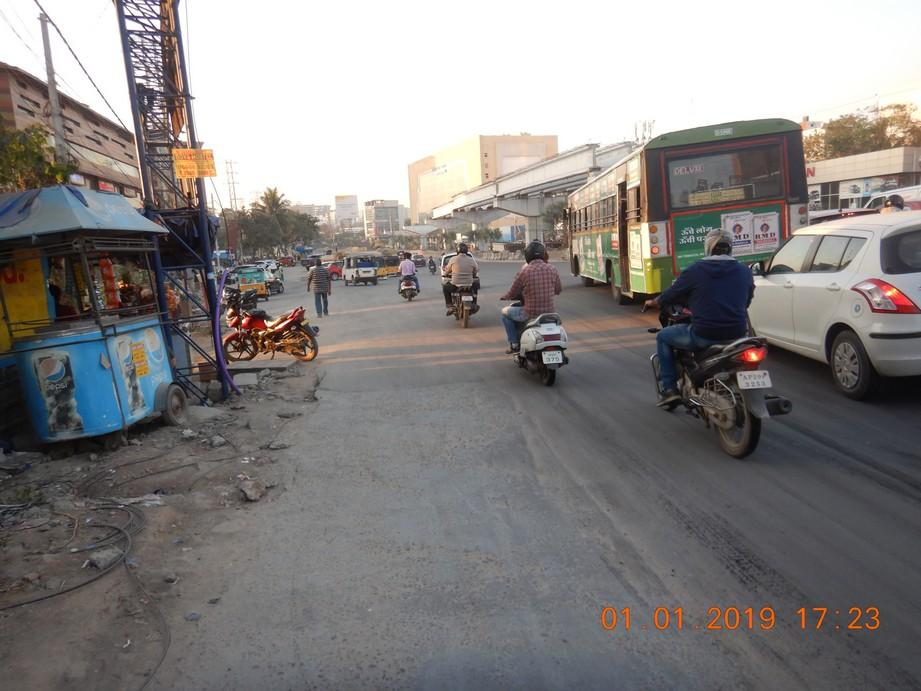plate: (736, 370, 772, 390), (541, 349, 564, 365)
